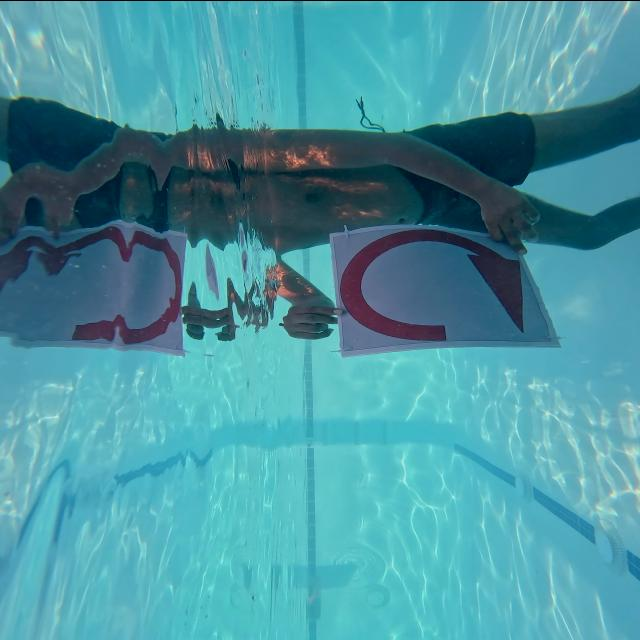red_side: (329, 223, 536, 364)
